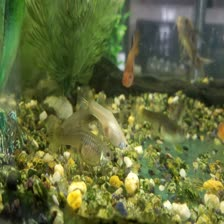Guppy: (84, 95, 133, 151), (137, 102, 191, 146)
Kiros: (170, 12, 216, 71)
Transparente: (119, 28, 149, 87)
